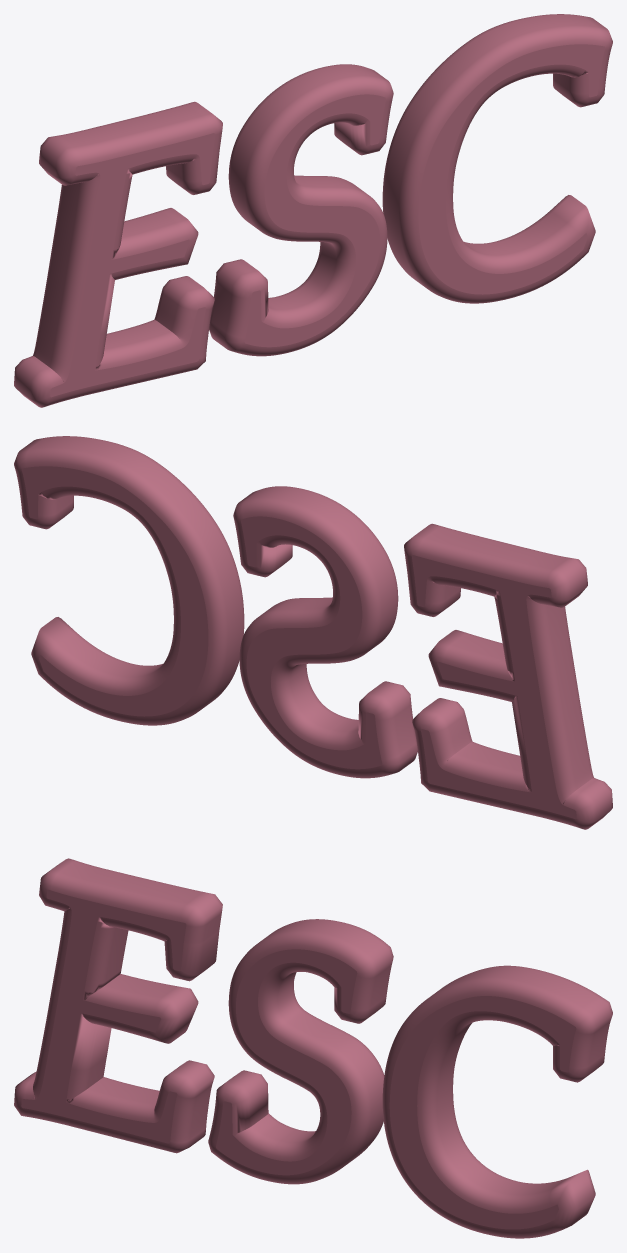
The model's file is ESC.obj.
3 views of the same model, one above another, from view 1: azimuth 30°, elevation 25°; view 2: azimuth 150°, elevation 25°; view 3: azimuth 330°, elevation 25° (orthographic).
Parts seen in each view (by area): view 1: テキスト.010; view 2: テキスト.010; view 3: テキスト.010.
Boxes of the visible parts, x1=… form: テキスト.010: x1=14, y1=14, x2=612, y2=407; テキスト.010: x1=14, y1=436, x2=612, y2=829; テキスト.010: x1=14, y1=858, x2=612, y2=1238.
Bounding box in the file's own units: 1.4 × 0.5973 × 0.12.
